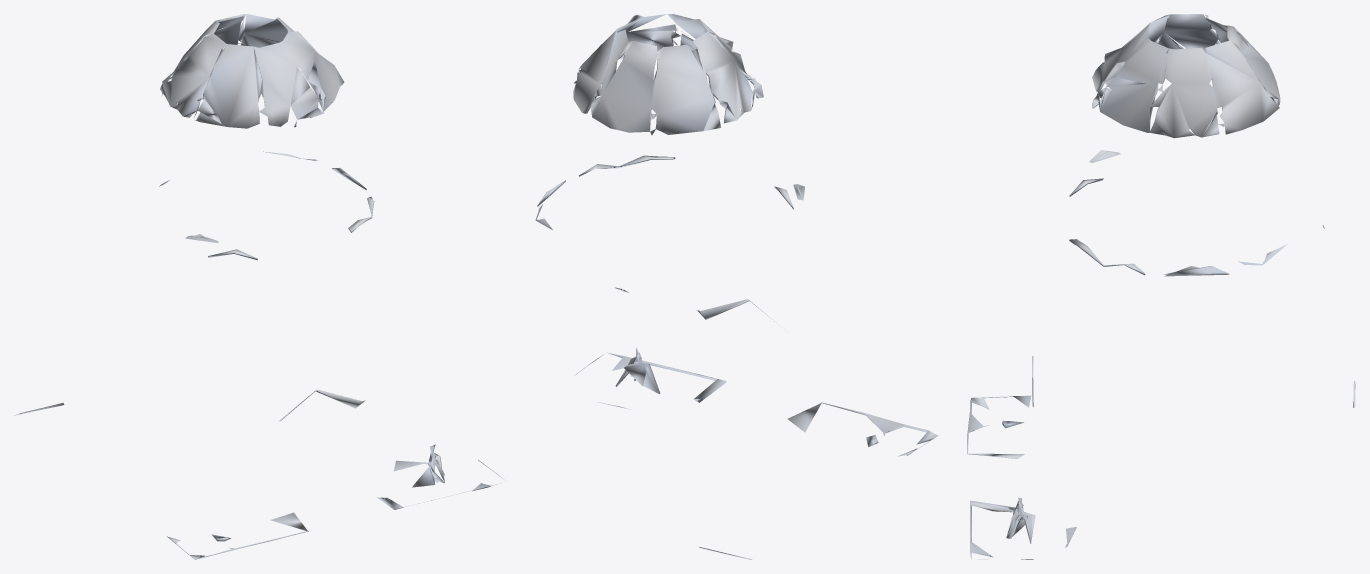
File: protocol.morpho.snow.glb
The picture shows the model from 3 angles, left to right: view 1: azimuth 30°, elevation 25°; view 2: azimuth 150°, elevation 25°; view 3: azimuth 270°, elevation 25°; orthographic projection. The views are drawn at different scales.
Parts seen in each view (by area): view 1: building.protocol.morpho.snow.mesh; view 2: building.protocol.morpho.snow.mesh; view 3: building.protocol.morpho.snow.mesh.
Boxes of the visible parts, x1,y1,x2,y2 form: building.protocol.morpho.snow.mesh: (14,14,506,559); building.protocol.morpho.snow.mesh: (535,14,938,559); building.protocol.morpho.snow.mesh: (967,14,1355,559).
Bounding box in the file's own units: 11.68 × 14.95 × 11.56.
